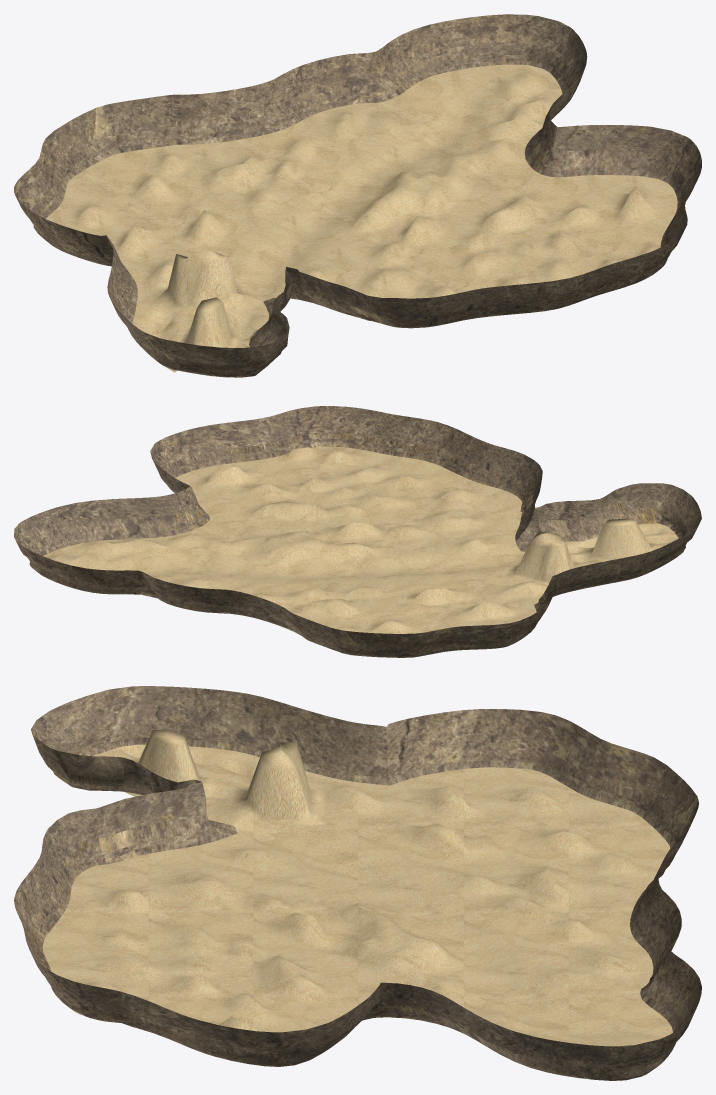
File: first_area5_6k_groundwalls.fbx
3 views of the same model, one above another, from view 1: azimuth 30°, elevation 25°; view 2: azimuth 150°, elevation 25°; view 3: azimuth 270°, elevation 25° (orthographic). The views are drawn at different scales.
Parts seen in each view (by area): view 1: polySurface1, polySurface2; view 2: polySurface1, polySurface2; view 3: polySurface1, polySurface2.
Part boxes in pixels (x1,y1,x2,y2): polySurface1: [46, 64, 677, 376]; polySurface2: [14, 14, 701, 377]; polySurface1: [43, 446, 678, 633]; polySurface2: [14, 406, 701, 657]; polySurface1: [42, 730, 672, 1046]; polySurface2: [14, 686, 701, 1080].
Size of the model in its own units: 6371 by 531 by 5139.
